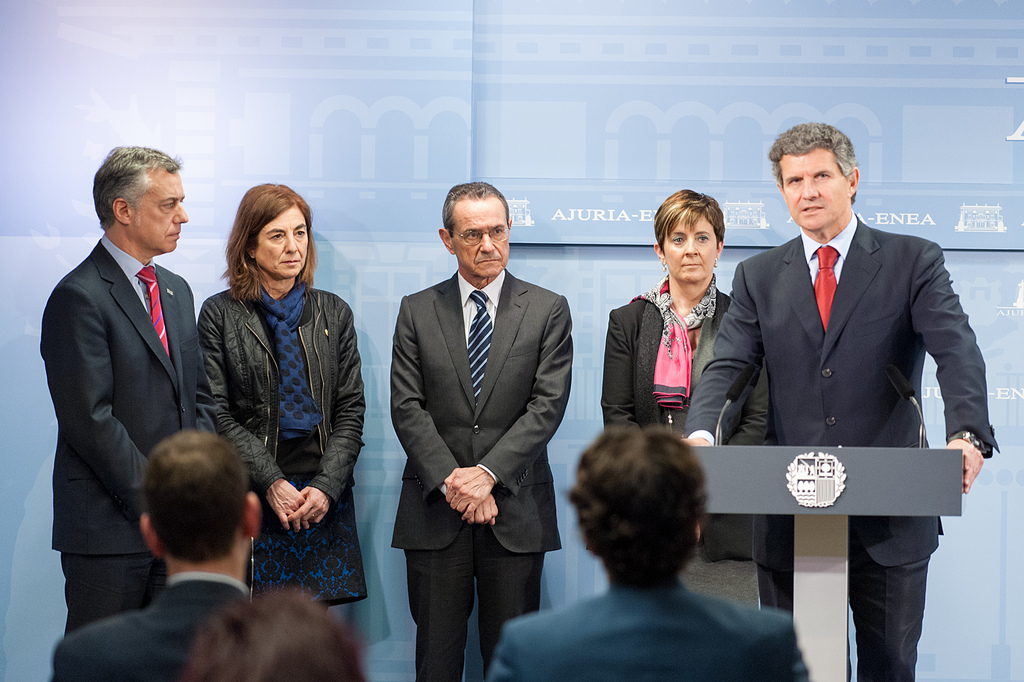Person: (683, 120, 1003, 682), (388, 177, 571, 682), (480, 424, 817, 682), (37, 141, 196, 624), (47, 424, 273, 682), (600, 188, 728, 424), (178, 586, 370, 682)
